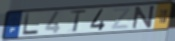4: (44, 10, 63, 35), (89, 8, 106, 32)
L: (21, 12, 40, 37)
N: (131, 5, 157, 30)
T: (69, 9, 88, 33)
Z: (110, 7, 133, 30)
